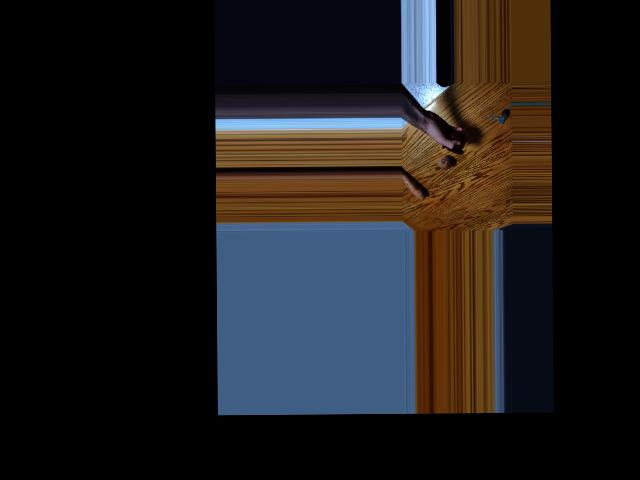onion: (433, 150, 452, 168)
